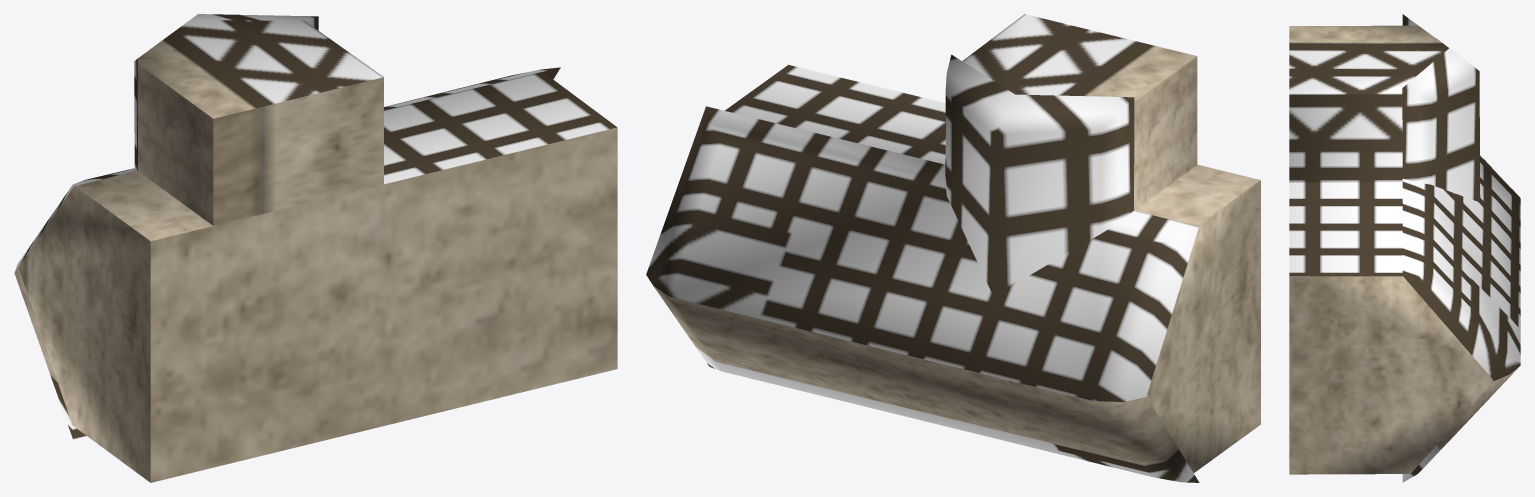
File: house_krey.DAE
3 renders of one model, left to right at view 1: azimuth 30°, elevation 25°; view 2: azimuth 150°, elevation 25°; view 3: azimuth 270°, elevation 25°, orthographic. The views are drawn at different scales.
Parts seen in each view (by area): view 1: Box001; view 2: Box001; view 3: Box001.
Part boxes in pixels (bbox=[...]): Box001: bbox=[14, 14, 617, 482]; Box001: bbox=[646, 14, 1260, 482]; Box001: bbox=[1289, 14, 1520, 482].
Bounding box in the file's own units: 5.62 × 2.77 × 3.99.
